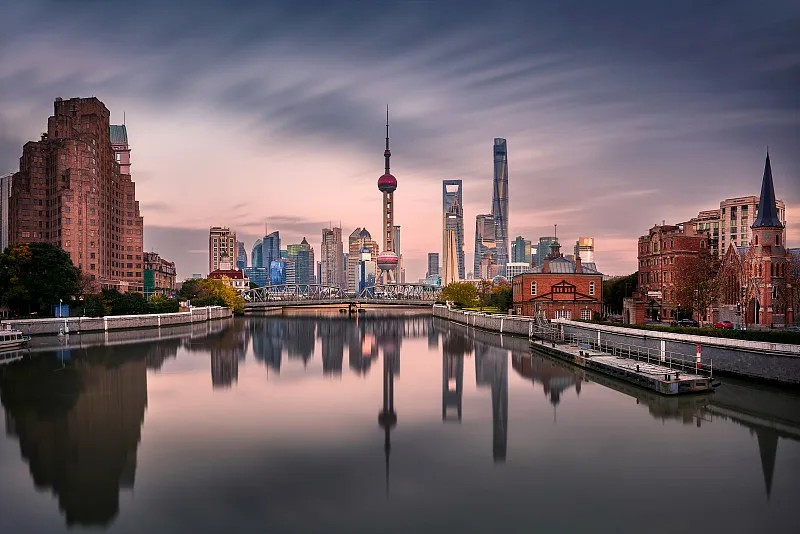Oriental: (374, 105, 400, 282)
